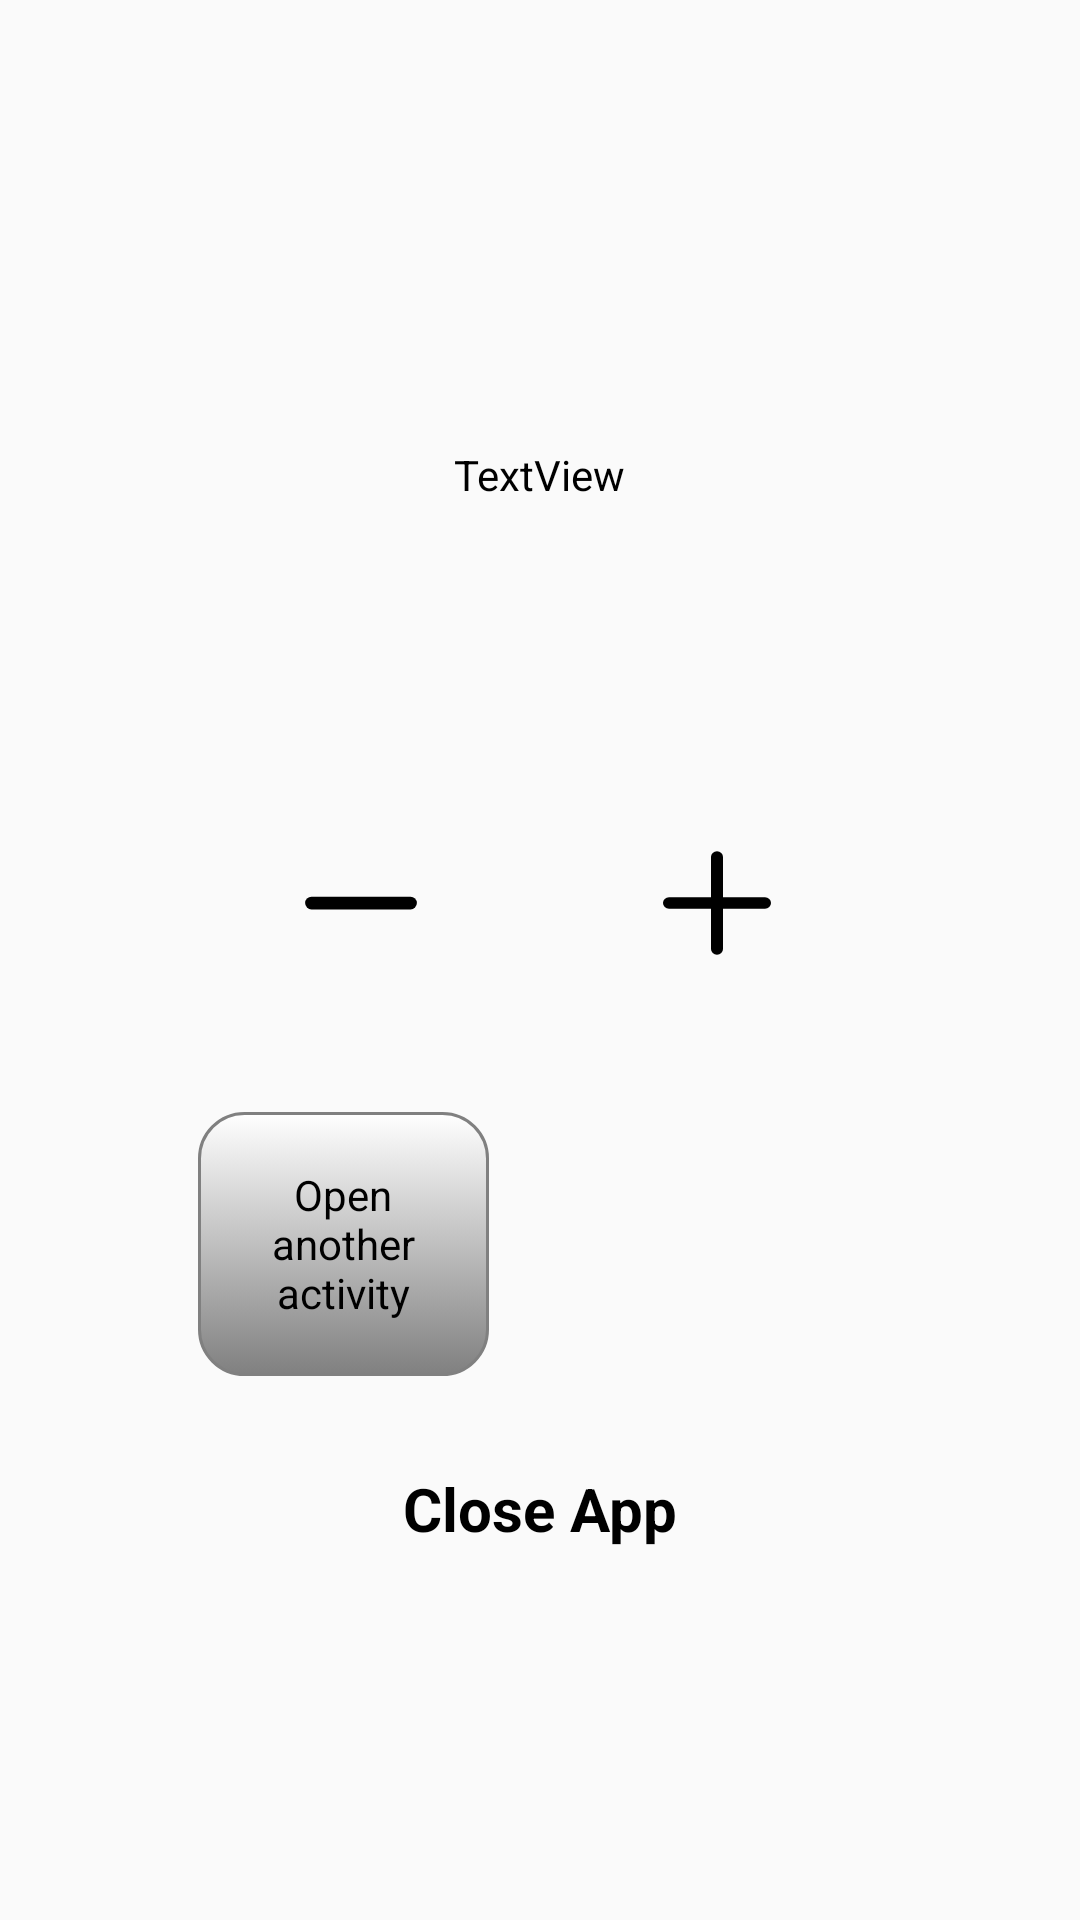

Icon bounding boxes for this 1080 x 1920 phone screenshot, format {"left": x1, "top": y1, "right": x2, "bottom": y2}:
add: {"left": 663, "top": 851, "right": 771, "bottom": 955}
